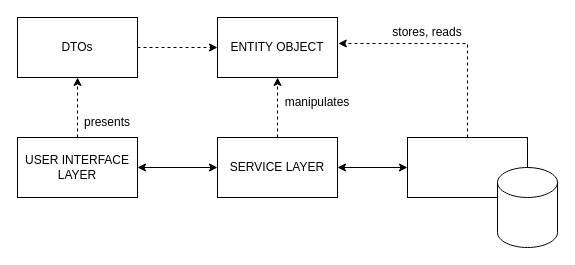
This 575x265 diagram has some shape labels left out. The shapes that lost their labels are listed below. From the top down, each one's centre as x and y in pixels, then its label:
At (x=467, y=167): "REPOSITORY LAYER".
At (x=527, y=207): "DATA STORE".
